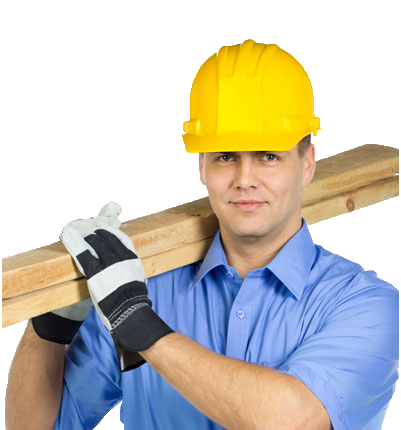Person_wearing_helmet: (171, 35, 325, 175)
